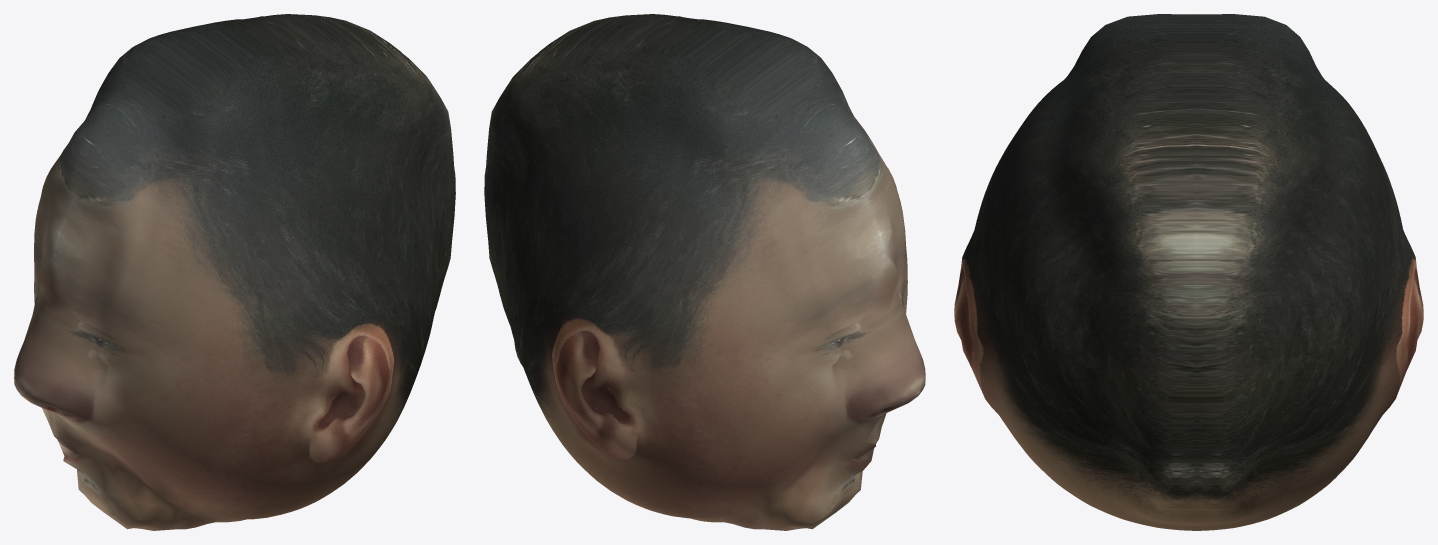
Rendered from kevinsfuckinweirdasshead.glb.
3 renders of one model, left to right at view 1: azimuth 30°, elevation 25°; view 2: azimuth 150°, elevation 25°; view 3: azimuth 270°, elevation 25°, orthographic. The views are drawn at different scales.
Parts seen in each view (by area): view 1: Icosphere; view 2: Icosphere; view 3: Icosphere.
Boxes of the visible parts, x1,y1,x2,y2 form: Icosphere: (14, 14, 455, 530); Icosphere: (484, 14, 925, 530); Icosphere: (954, 14, 1423, 530).
Bounding box in the file's own units: 2.04 × 2.18 × 1.86.
1 material, 1 textured.
